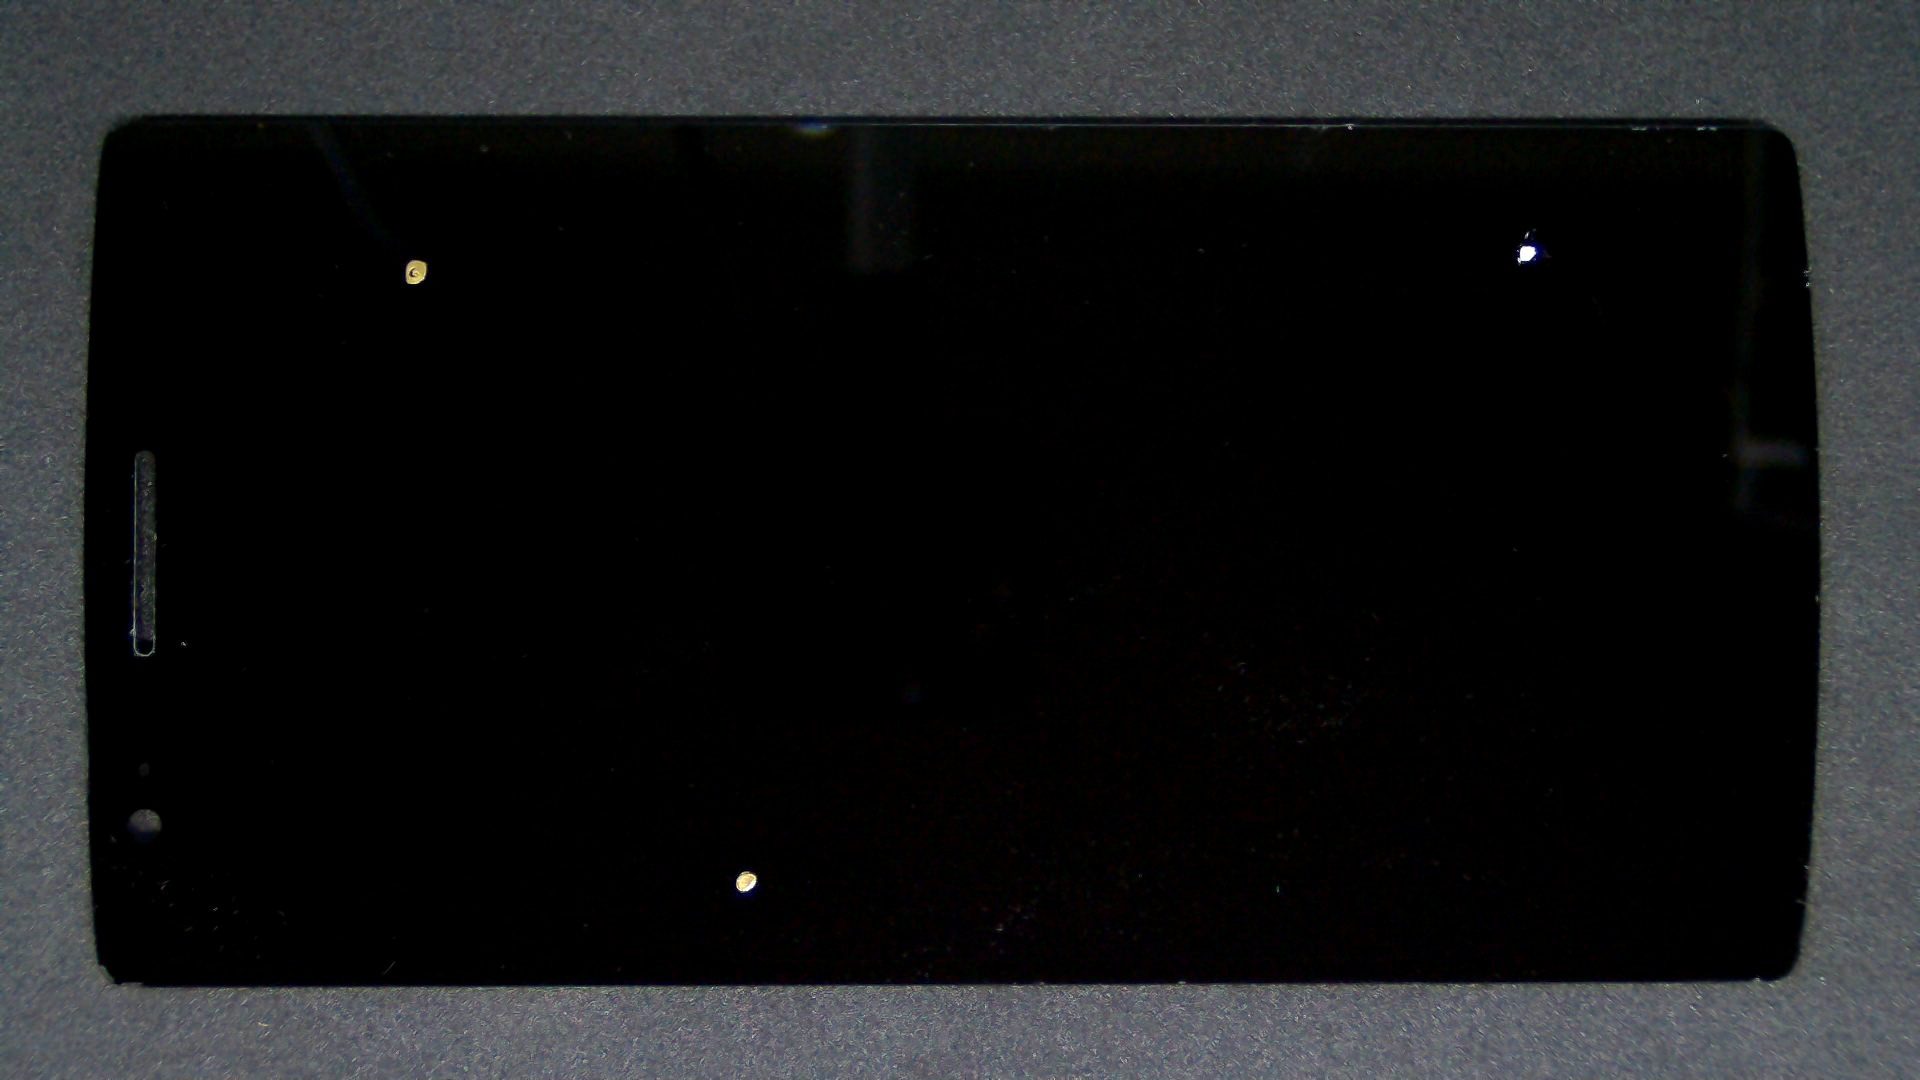oil: (372, 434, 1113, 1080), (761, 121, 1920, 365), (767, 112, 1920, 343), (207, 129, 618, 389)
